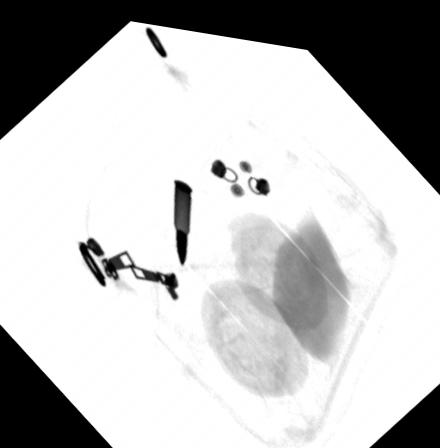Bullet: (172, 170, 193, 261)
